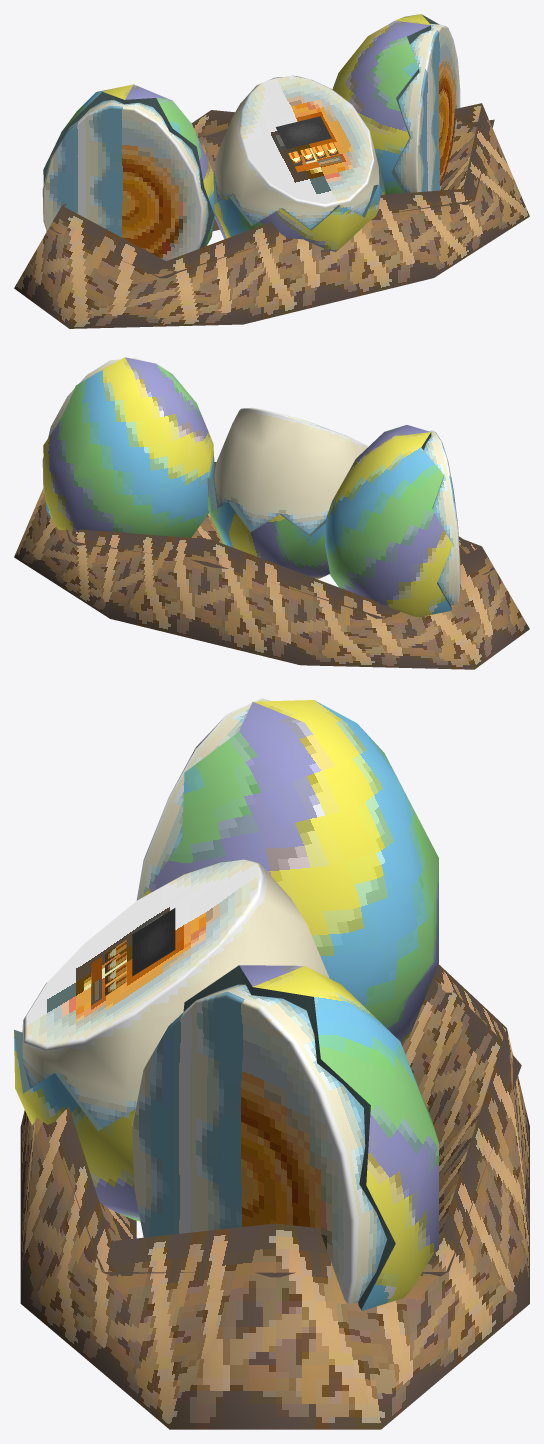
File: int_egg_audioM.dae
The picture shows the model from 3 angles, top to bottom: view 1: azimuth 30°, elevation 25°; view 2: azimuth 150°, elevation 25°; view 3: azimuth 270°, elevation 25°; orthographic projection. The views are drawn at different scales.
Visible parts, largest first — view 1: int_egg_audioM; view 2: int_egg_audioM; view 3: int_egg_audioM.
Part boxes in pixels (x1=…): int_egg_audioM: x1=14, y1=14, x2=529, y2=328; int_egg_audioM: x1=14, y1=357, x2=529, y2=669; int_egg_audioM: x1=14, y1=698, x2=529, y2=1429.
Bounding box in the file's own units: 61.4 × 24.75 × 31.21.
Materials: 4 (4 with a texture image).
